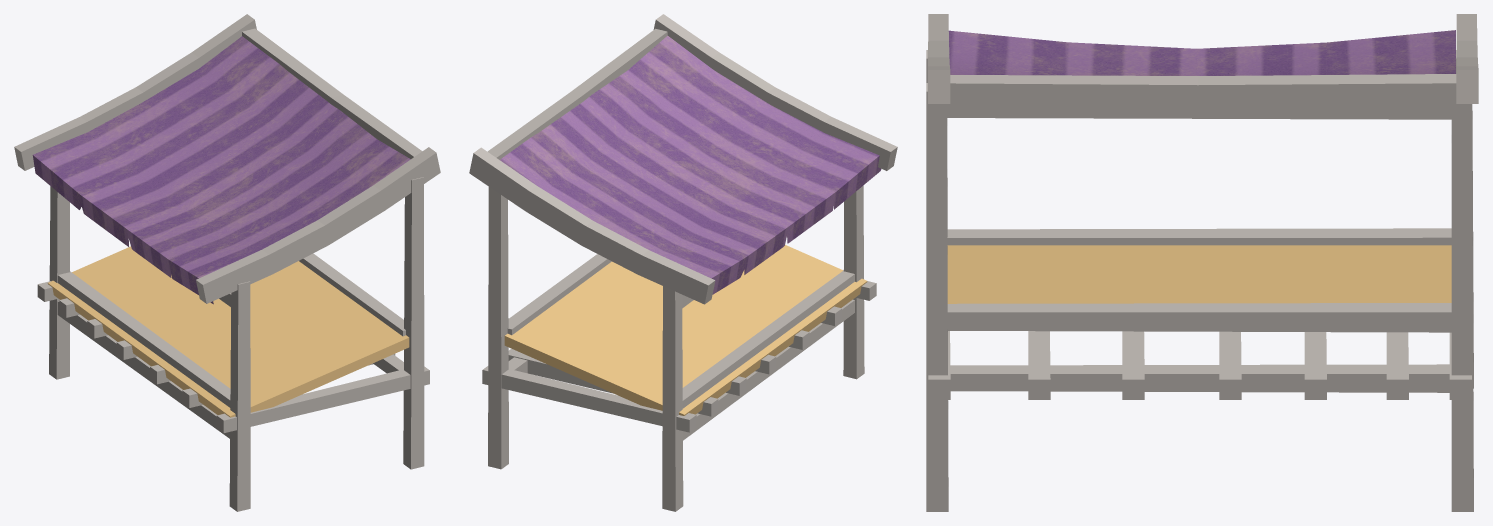
The model's file is Store_B.fbx.
3 views of the same model, side by side, from view 1: azimuth 30°, elevation 25°; view 2: azimuth 150°, elevation 25°; view 3: azimuth 270°, elevation 25° (orthographic). The views are drawn at different scales.
Parts seen in each view (by area): view 1: Store_B; view 2: Store_B; view 3: Store_B.
Part boxes in pixels (x1=…): Store_B: x1=14, y1=14, x2=440, y2=511; Store_B: x1=469, y1=14, x2=897, y2=511; Store_B: x1=926, y1=14, x2=1478, y2=511.
Bounding box in the file's own units: 379 × 473 × 525.
